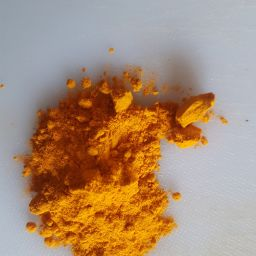Turmeric dried: (6, 43, 205, 256), (23, 73, 179, 251), (58, 71, 233, 172)
